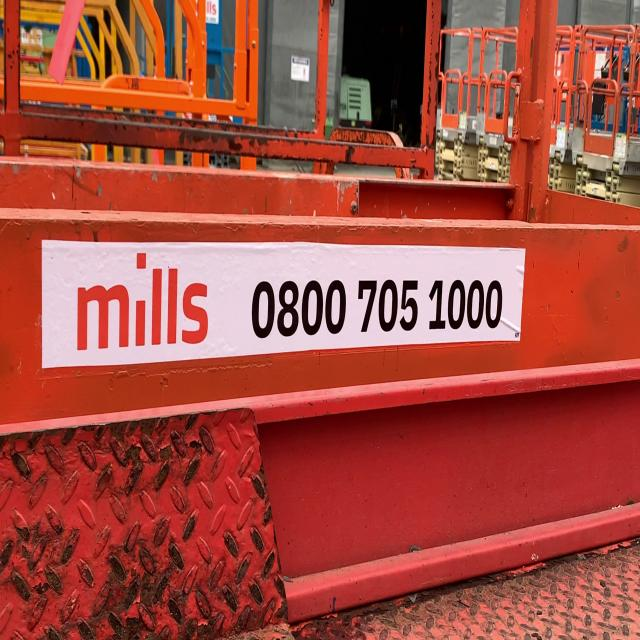Adesivo Longo: (39, 234, 529, 380)
